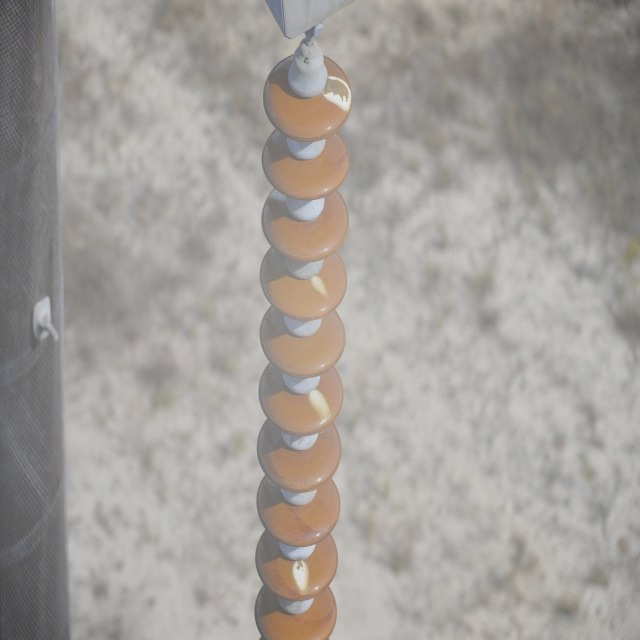insulator: (253, 53, 353, 638)
